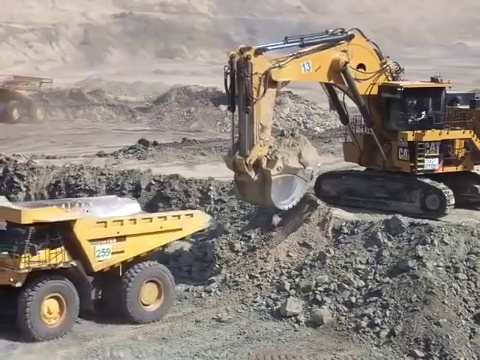dumper: (2, 195, 212, 341), (1, 74, 52, 124)
excavator: (225, 28, 480, 221)
